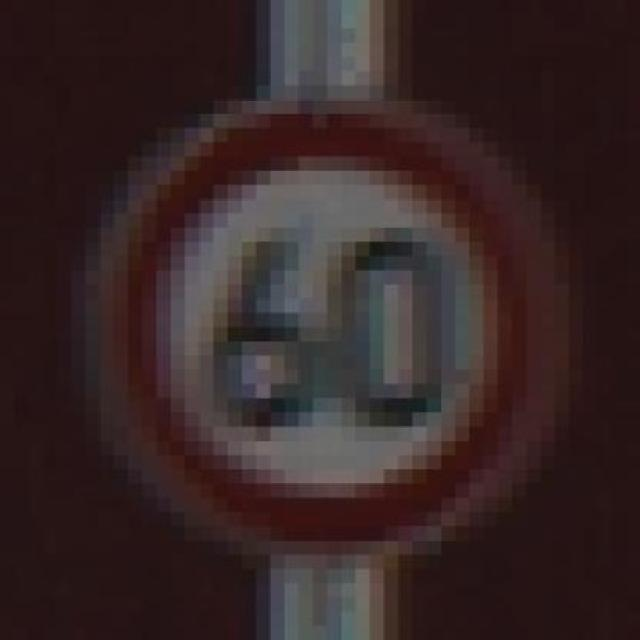forb_speed_over_60: (109, 105, 536, 544)
